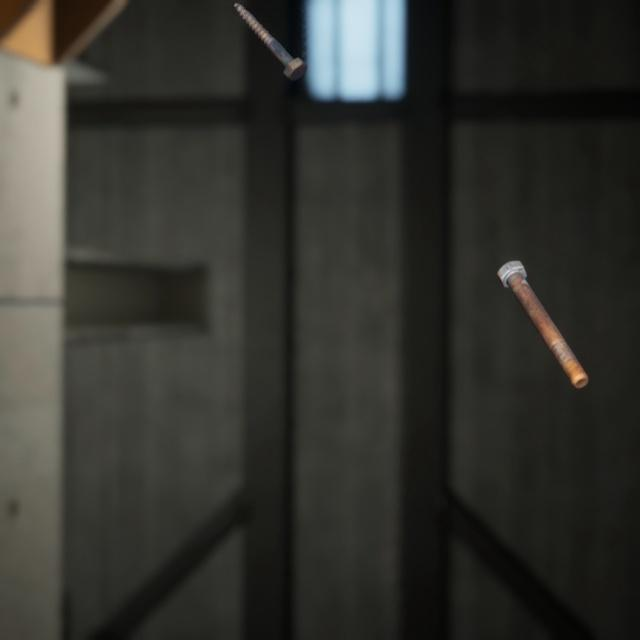bolt: (492, 239, 592, 374), (232, 0, 312, 75)
